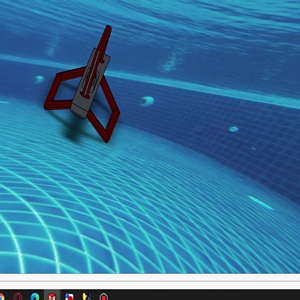submarine: (45, 23, 128, 143)
